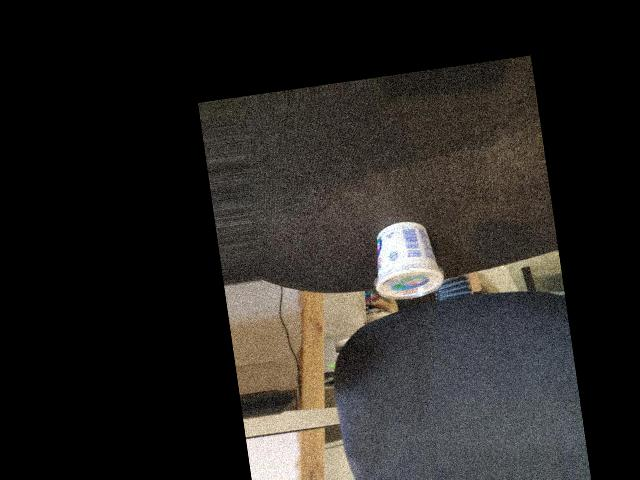cotage: (367, 210, 443, 305)
